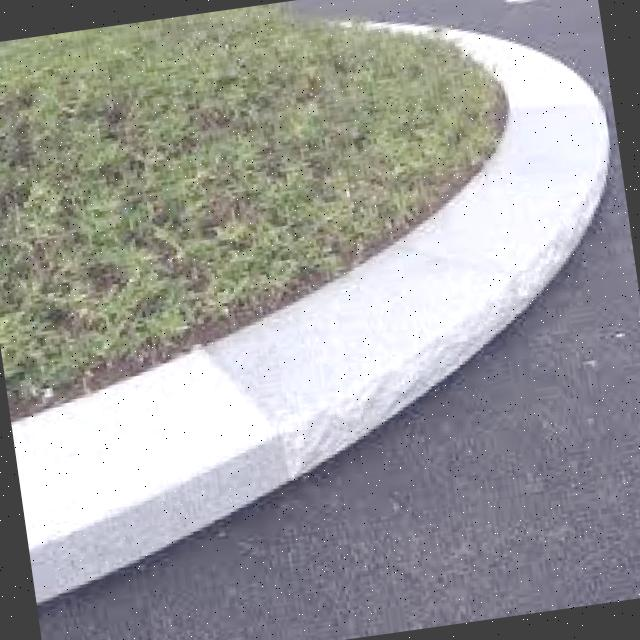curb: (1, 283, 343, 605), (289, 184, 523, 450), (458, 1, 633, 261)
